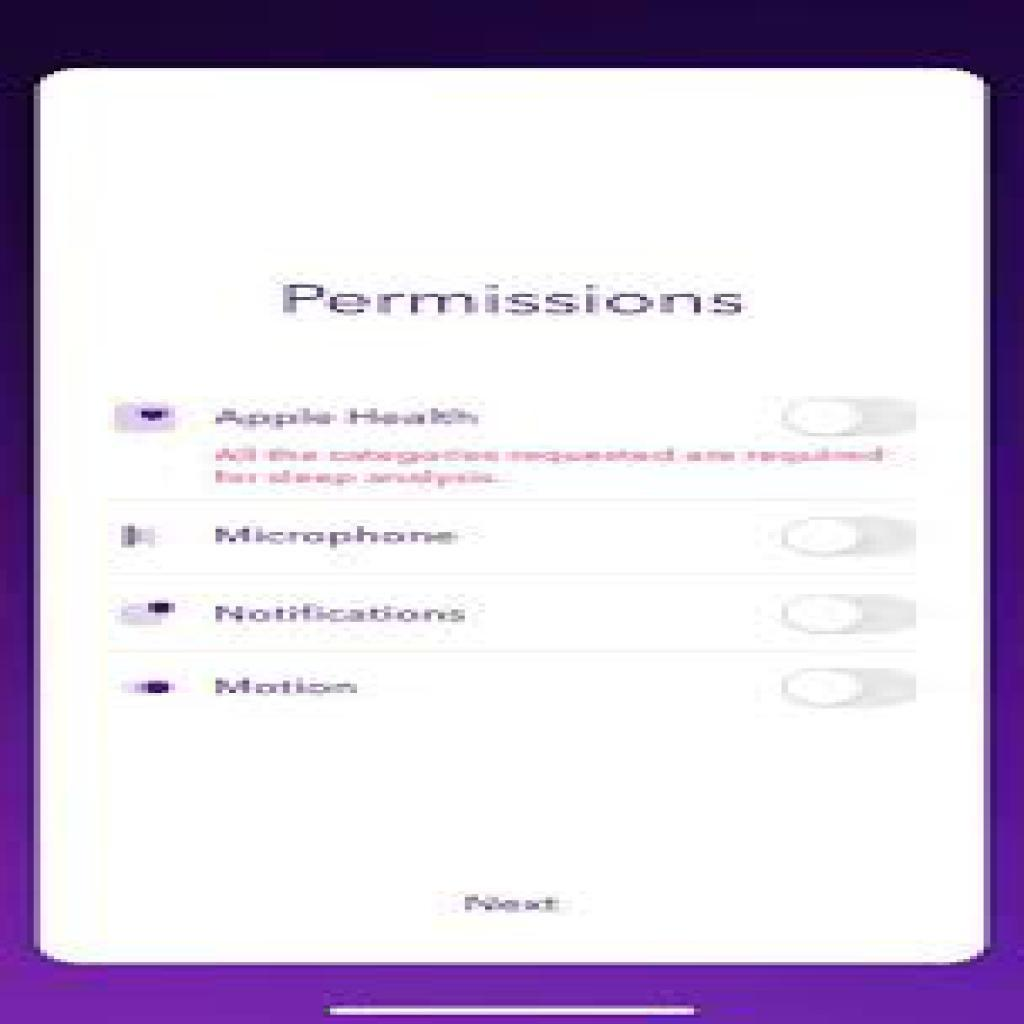switch: (784, 515, 916, 560), (783, 594, 918, 636), (782, 666, 917, 706), (780, 400, 917, 439)
